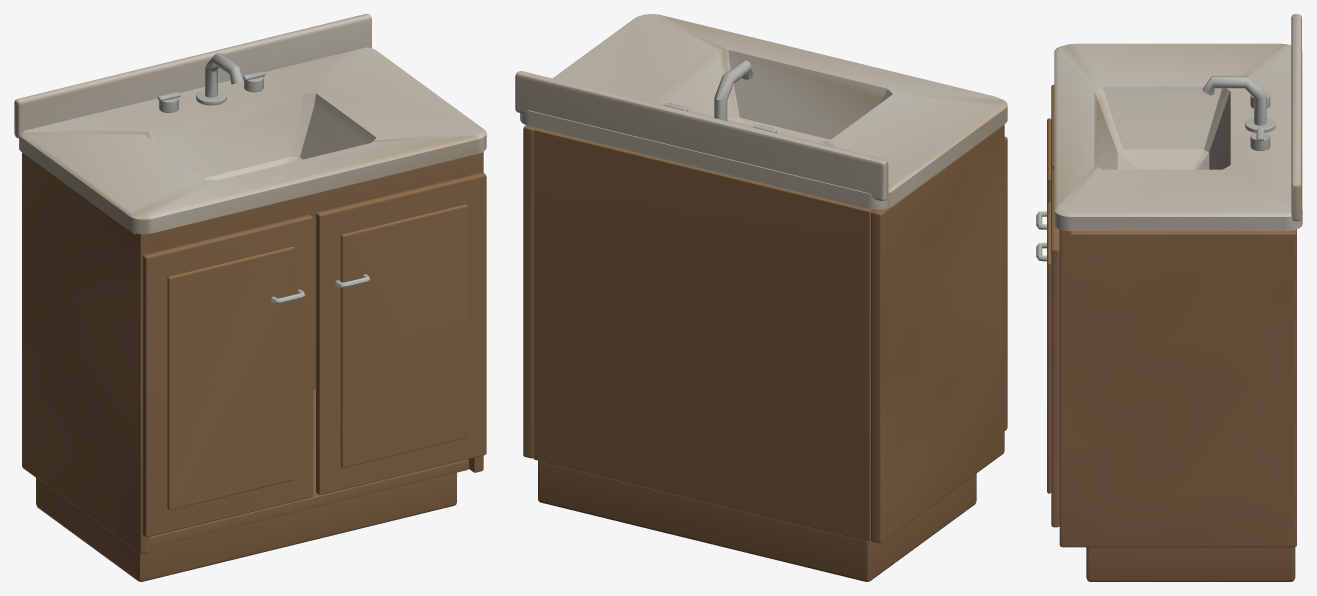
File: bath_vanity.glb
3 views of the same model, side by side, from view 1: azimuth 30°, elevation 25°; view 2: azimuth 150°, elevation 25°; view 3: azimuth 270°, elevation 25° (orthographic). The views are drawn at different scales.
Visible parts, largest first — view 1: bath_vanity_wood, bath_vanity_metal; view 2: bath_vanity_wood, bath_vanity_metal; view 3: bath_vanity_wood, bath_vanity_metal.
Boxes of the visible parts, left/top/right/bottom form: bath_vanity_wood: left=22, top=152, right=486, bottom=581; bath_vanity_metal: left=14, top=14, right=486, bottom=303; bath_vanity_wood: left=523, top=124, right=1007, bottom=581; bath_vanity_metal: left=515, top=14, right=1007, bottom=209; bath_vanity_wood: left=1047, top=84, right=1296, bottom=581; bath_vanity_metal: left=1036, top=14, right=1302, bottom=261.
Size of the model in its own units: 0.8198 by 0.9546 by 0.5359.
